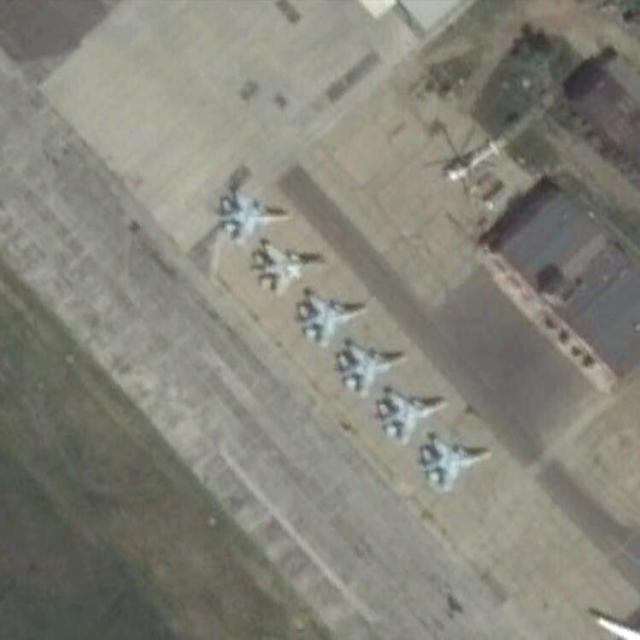fighter jet: (419, 440, 492, 490), (246, 239, 326, 284), (213, 185, 289, 231), (293, 292, 364, 337), (377, 390, 442, 436), (335, 342, 402, 386)
